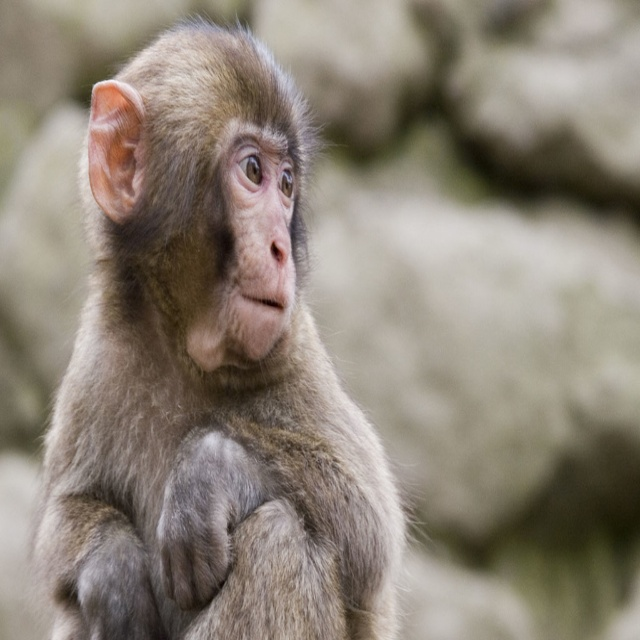Monkey: (34, 18, 412, 639)
